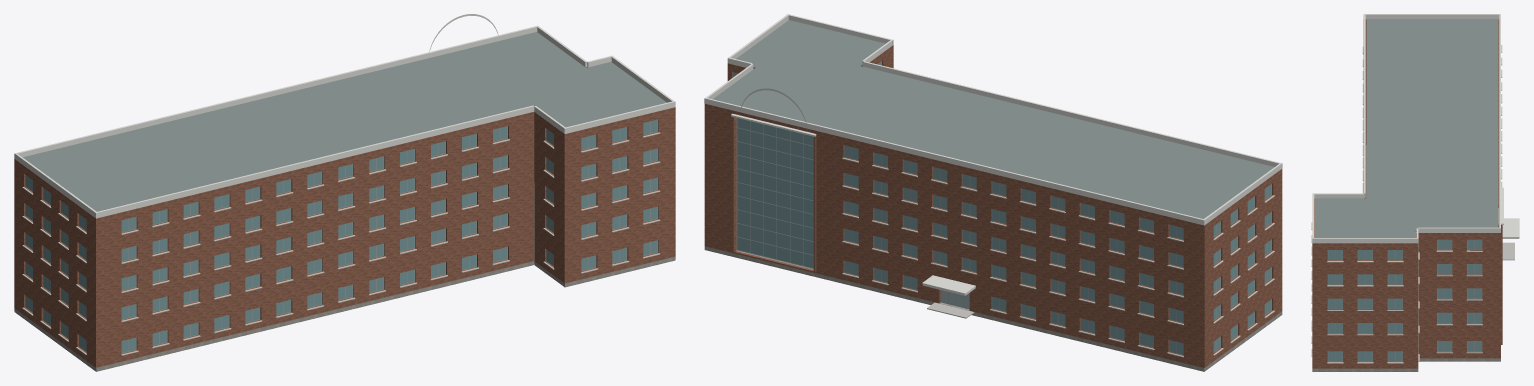
The picture shows the model from 3 angles, left to right: view 1: azimuth 30°, elevation 25°; view 2: azimuth 150°, elevation 25°; view 3: azimuth 270°, elevation 25°; orthographic projection. The views are drawn at different scales.
Visible parts, largest first — view 1: dev21__wall, dev21__roof, dev21__glass, dev21__cap, dev21__frame, dev21__band, dev21__plinth, dev21__foundation; view 2: dev21__wall, dev21__roof, dev21__glass, dev21__curtainglass, dev21__cap, dev21__frame, dev21__band, dev21__plinth, dev21__mullion, dev21__foundation; view 3: dev21__roof, dev21__wall, dev21__glass, dev21__cap, dev21__band, dev21__frame, dev21__plinth, dev21__threshold-main, dev21__foundation.
Boxes of the visible parts, x1=… form: dev21__wall: x1=14, y1=67, x2=675, y2=367; dev21__roof: x1=23, y1=32, x2=666, y2=211; dev21__glass: x1=25, y1=119, x2=657, y2=352; dev21__cap: x1=14, y1=25, x2=675, y2=218; dev21__frame: x1=25, y1=119, x2=658, y2=353; dev21__band: x1=22, y1=14, x2=660, y2=355; dev21__plinth: x1=14, y1=183, x2=675, y2=370; dev21__foundation: x1=14, y1=257, x2=675, y2=371; dev21__wall: x1=704, y1=45, x2=1282, y2=367; dev21__roof: x1=713, y1=20, x2=1274, y2=218; dev21__glass: x1=733, y1=61, x2=1271, y2=354; dev21__curtainglass: x1=737, y1=118, x2=813, y2=268; dev21__cap: x1=704, y1=14, x2=1282, y2=294; dev21__frame: x1=732, y1=61, x2=1271, y2=355; dev21__band: x1=739, y1=88, x2=1274, y2=357; dev21__plinth: x1=705, y1=246, x2=1281, y2=370; dev21__mullion: x1=736, y1=118, x2=813, y2=268; dev21__foundation: x1=704, y1=247, x2=1282, y2=371; dev21__roof: x1=1315, y1=19, x2=1498, y2=237; dev21__wall: x1=1312, y1=19, x2=1502, y2=368; dev21__glass: x1=1328, y1=239, x2=1481, y2=361; dev21__cap: x1=1312, y1=14, x2=1519, y2=243; dev21__band: x1=1311, y1=45, x2=1502, y2=363; dev21__frame: x1=1327, y1=239, x2=1482, y2=361; dev21__plinth: x1=1312, y1=145, x2=1500, y2=370; dev21__threshold-main: x1=1502, y1=242, x2=1514, y2=260; dev21__foundation: x1=1312, y1=358, x2=1500, y2=371.
Bounding box in the file's own units: 69.46 × 22.5 × 27.14.
14 materials, 4 textured.
